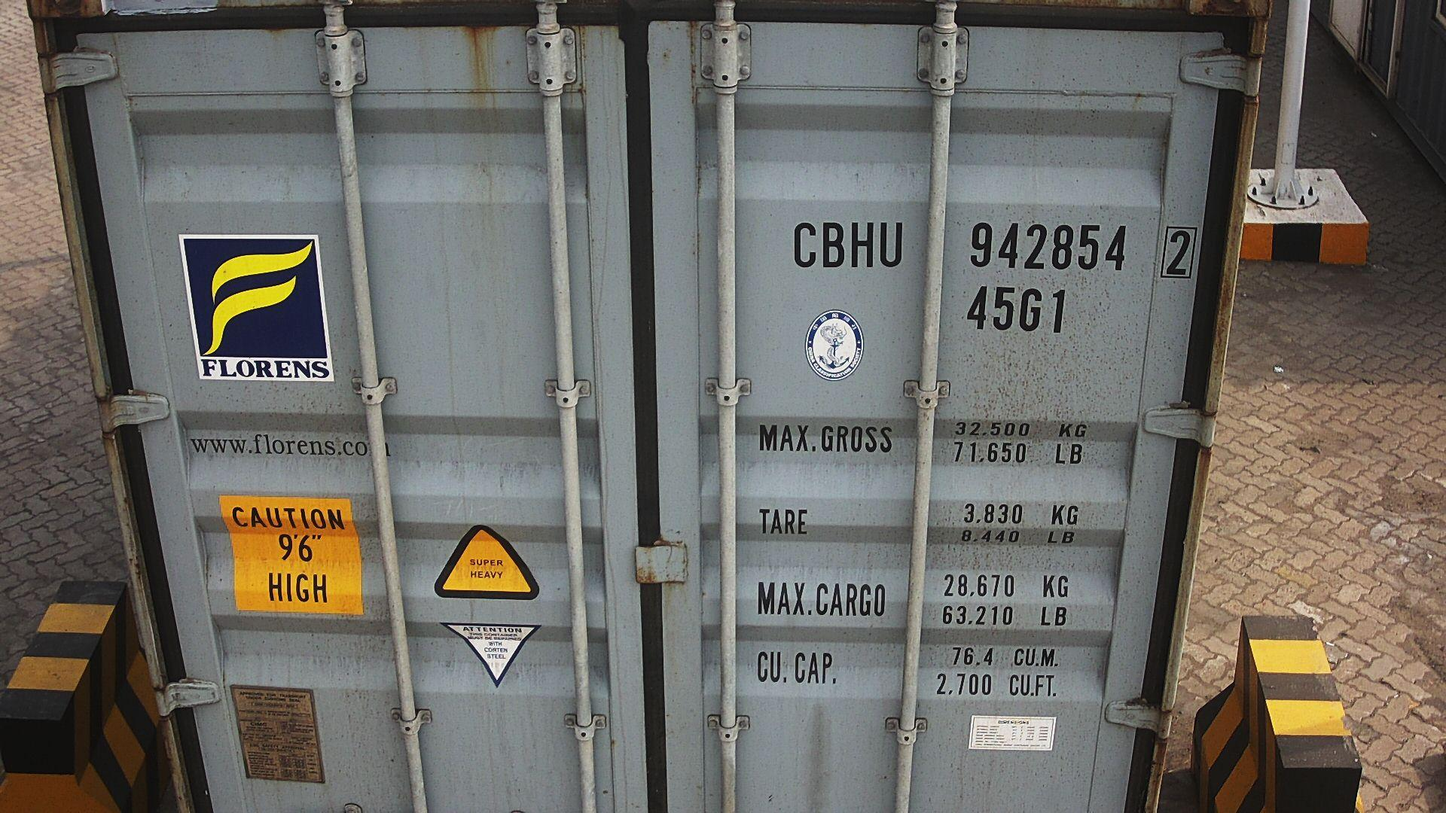container-numbers: (788, 217, 1202, 280), (966, 283, 1072, 336)
